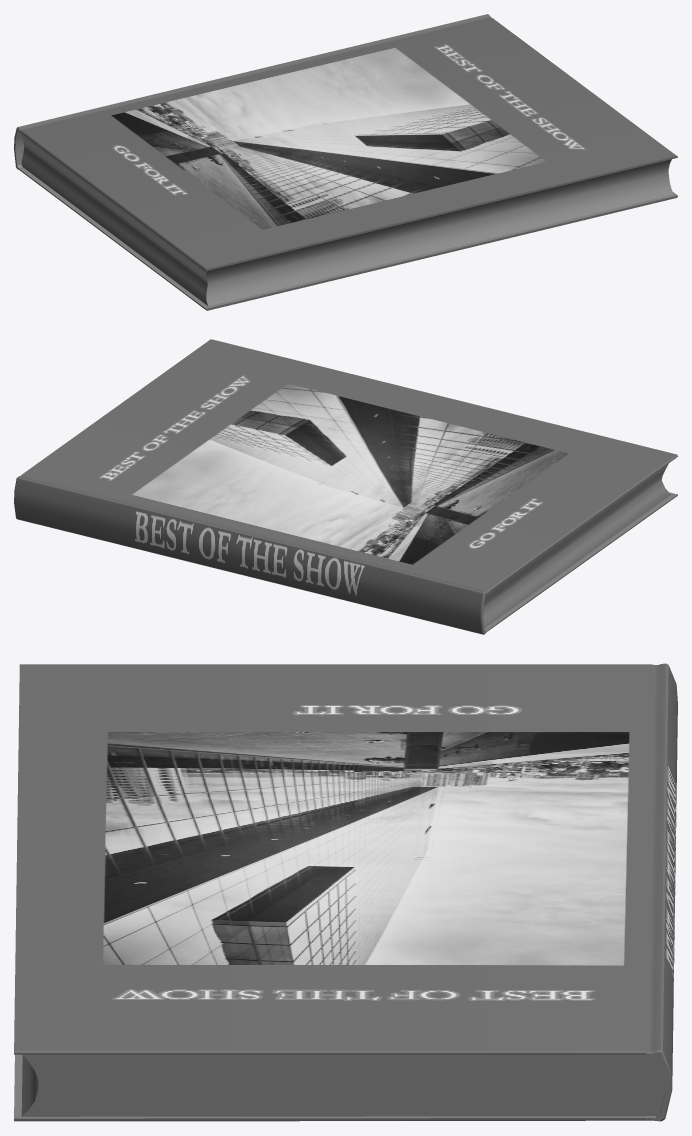
File: SM_Book_02.fbx
The picture shows the model from 3 angles, top to bottom: view 1: azimuth 30°, elevation 25°; view 2: azimuth 150°, elevation 25°; view 3: azimuth 270°, elevation 25°; orthographic projection. The views are drawn at different scales.
Visible parts, largest first — view 1: SM_Book_02; view 2: SM_Book_02; view 3: SM_Book_02.
Boxes of the visible parts, x1,y1,x2,y2 form: SM_Book_02: (14, 14, 677, 310); SM_Book_02: (14, 339, 677, 634); SM_Book_02: (14, 663, 677, 1121).
Bounding box in the file's own units: 22.7 × 16.35 × 1.99.
Materials: 1 (1 with a texture image).
